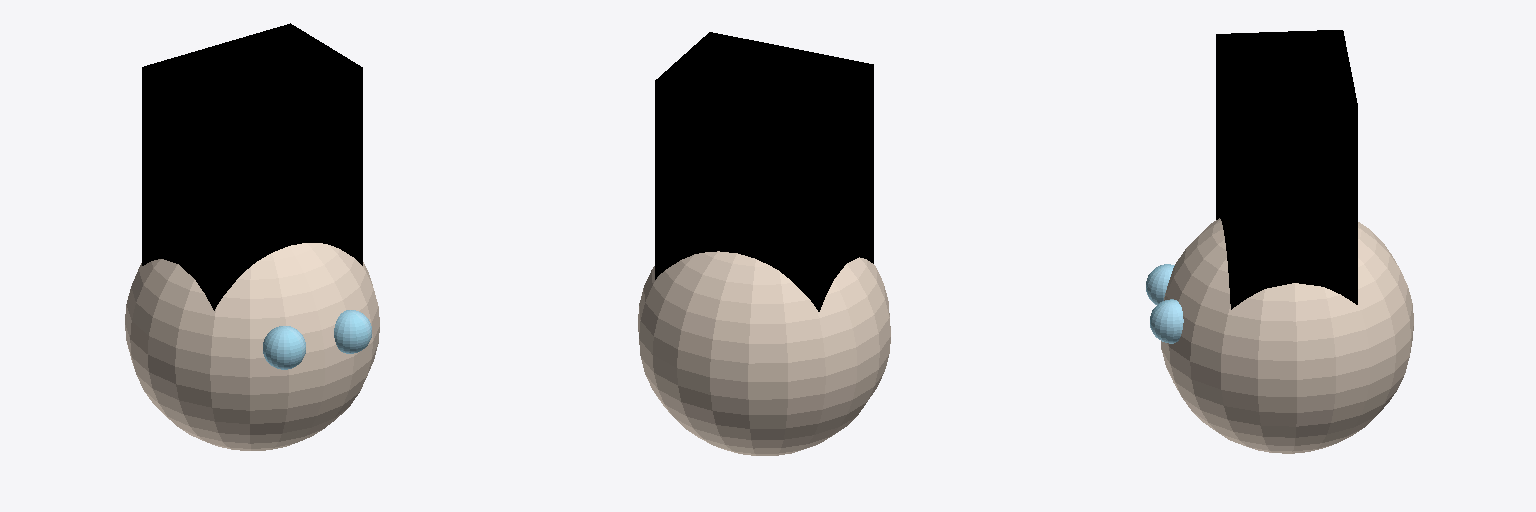
3 renders of one model, left to right at view 1: azimuth 30°, elevation 25°; view 2: azimuth 150°, elevation 25°; view 3: azimuth 270°, elevation 25°, orthographic.
Bounding box in the file's own units: 1.99 × 3.21 × 2.1.
Materials: 3 (2 with a texture image).